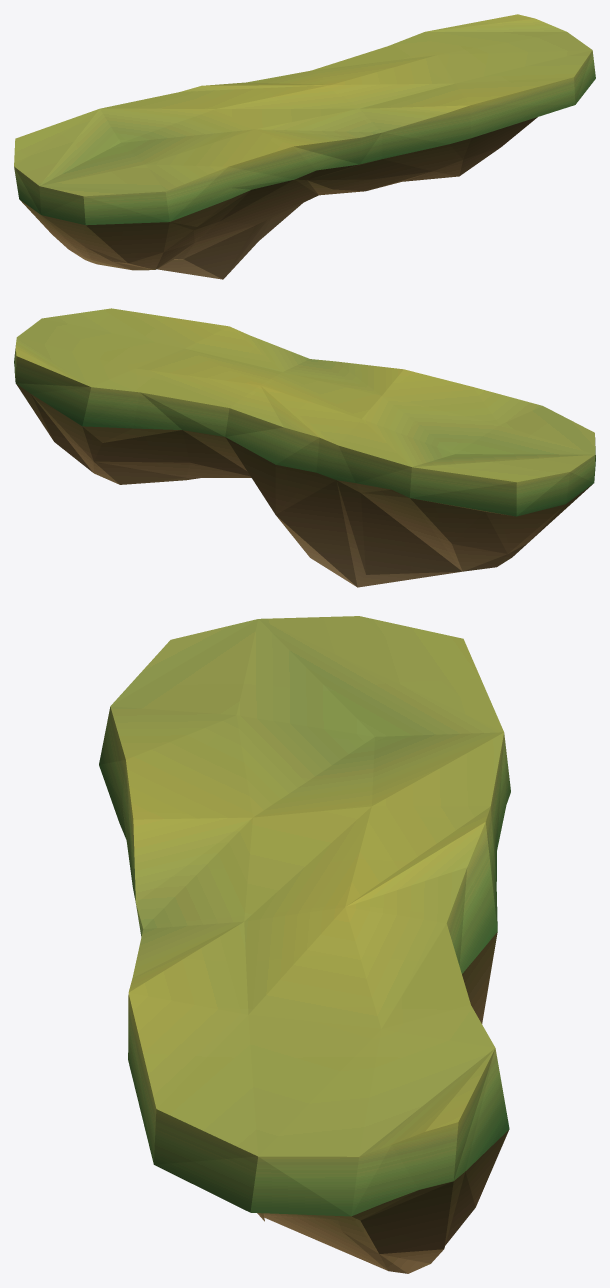
The model's file is Island_001.FBX.
3 renders of one model, top to bottom at view 1: azimuth 30°, elevation 25°; view 2: azimuth 150°, elevation 25°; view 3: azimuth 270°, elevation 25°, orthographic. The views are drawn at different scales.
Visible parts, largest first — view 1: Island_001; view 2: Island_001; view 3: Island_001.
Part boxes in pixels (x1,y1,x2,y2): Island_001: (14,14,595,279); Island_001: (14,308,595,587); Island_001: (99,616,510,1273).
Bounding box in the file's own units: 2.13 × 0.6805 × 0.6315.
